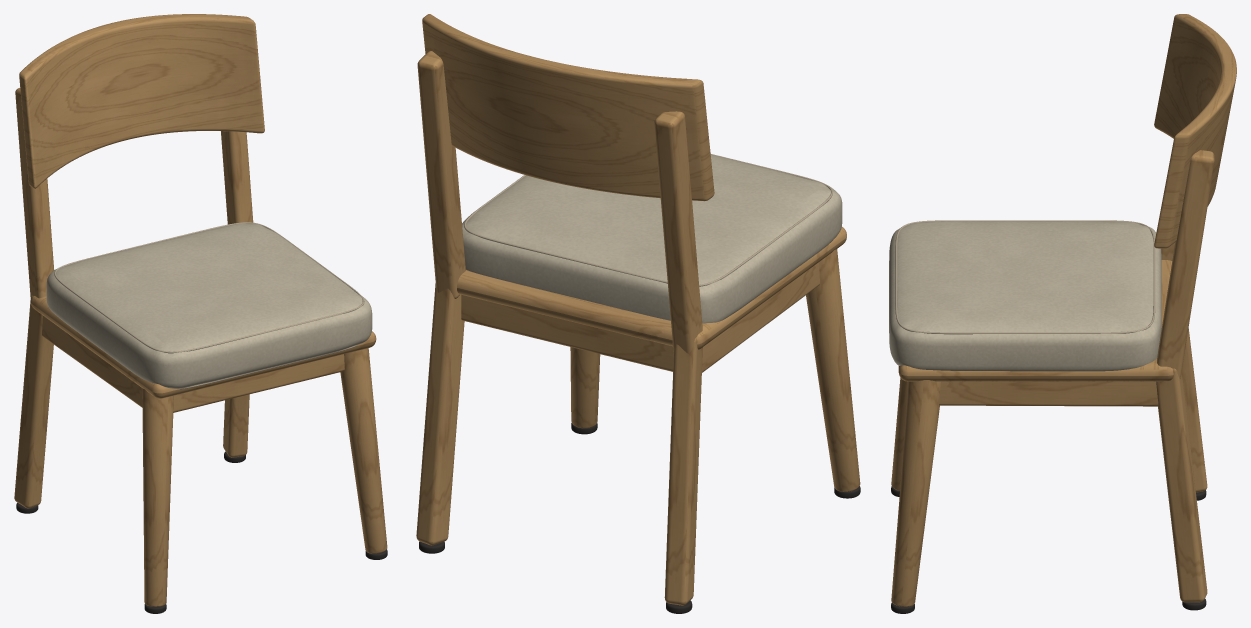
Rendered from universal-arc-upholstered-chair.glb.
3 views of the same model, side by side, from view 1: azimuth 30°, elevation 25°; view 2: azimuth 150°, elevation 25°; view 3: azimuth 270°, elevation 25° (orthographic). The views are drawn at different scales.
Parts seen in each view (by area): view 1: Linen | shaped dining seat, Oak | broad steam-bent backrest, Oak | front tapered leg, Oak | front tapered leg.001, Oak | splayed rear leg, Oak | gently raked back stile, Oak | front seat apron, Oak | seat foundation, Oak | gently raked back stile.001, Oak | side seat apron, Oak | splayed rear leg.001, Linen | shaped dining seat | upper tailored welt; view 2: Linen | shaped dining seat, Oak | broad steam-bent backrest, Oak | splayed rear leg.001, Oak | splayed rear leg, Oak | gently raked back stile, Oak | seat foundation, Oak | front tapered leg, Oak | gently raked back stile.001, Oak | back seat apron, Oak | side seat apron, Oak | front tapered leg.001, Linen | shaped dining seat | upper tailored welt; view 3: Linen | shaped dining seat, Oak | broad steam-bent backrest, Oak | front tapered leg.001, Oak | splayed rear leg.001, Oak | gently raked back stile.001, Oak | side seat apron.001, Oak | seat foundation, Oak | splayed rear leg, Linen | shaped dining seat | upper tailored welt, Oak | front tapered leg.
Boxes of the visible parts, left/top/right/bottom form: Linen | shaped dining seat: left=46, top=223, right=372, bottom=388; Oak | broad steam-bent backrest: left=19, top=14, right=264, bottom=188; Oak | front tapered leg: left=142, top=388, right=173, bottom=606; Oak | front tapered leg.001: left=340, top=348, right=387, bottom=553; Oak | splayed rear leg: left=14, top=295, right=53, bottom=508; Oak | gently raked back stile: left=15, top=88, right=54, bottom=298; Oak | front seat apron: left=173, top=354, right=344, bottom=412; Oak | seat foundation: left=31, top=296, right=376, bottom=398; Oak | gently raked back stile.001: left=221, top=131, right=253, bottom=224; Oak | side seat apron: left=42, top=316, right=142, bottom=407; Oak | splayed rear leg.001: left=223, top=394, right=249, bottom=457; Linen | shaped dining seat | upper tailored welt: left=54, top=222, right=364, bottom=353; Linen | shaped dining seat: left=462, top=155, right=842, bottom=323; Oak | broad steam-bent backrest: left=422, top=14, right=714, bottom=201; Oak | splayed rear leg.001: left=416, top=283, right=464, bottom=545; Oak | splayed rear leg: left=664, top=337, right=702, bottom=605; Oak | gently raked back stile: left=654, top=111, right=702, bottom=353; Oak | seat foundation: left=457, top=226, right=846, bottom=349; Oak | front tapered leg: left=806, top=249, right=860, bottom=491; Oak | gently raked back stile.001: left=417, top=51, right=465, bottom=298; Oak | back seat apron: left=461, top=295, right=673, bottom=371; Oak | side seat apron: left=702, top=262, right=819, bottom=372; Oak | front tapered leg.001: left=570, top=347, right=600, bottom=428; Linen | shaped dining seat | upper tailored welt: left=464, top=154, right=832, bottom=286; Linen | shaped dining seat: left=889, top=221, right=1161, bottom=371; Oak | broad steam-bent backrest: left=1154, top=14, right=1236, bottom=248; Oak | front tapered leg.001: left=891, top=380, right=940, bottom=606; Oak | splayed rear leg.001: left=1156, top=368, right=1207, bottom=602; Oak | gently raked back stile.001: left=1157, top=150, right=1214, bottom=382; Oak | side seat apron.001: left=939, top=381, right=1158, bottom=406; Oak | seat foundation: left=898, top=260, right=1173, bottom=381; Oak | splayed rear leg: left=1182, top=328, right=1207, bottom=492; Linen | shaped dining seat | upper tailored welt: left=895, top=220, right=1155, bottom=334; Oak | front tapered leg: left=891, top=377, right=908, bottom=490.
Bounding box in the file's own units: 0.502 × 0.8945 × 0.5829.
Materials: 4 (2 with a texture image).
